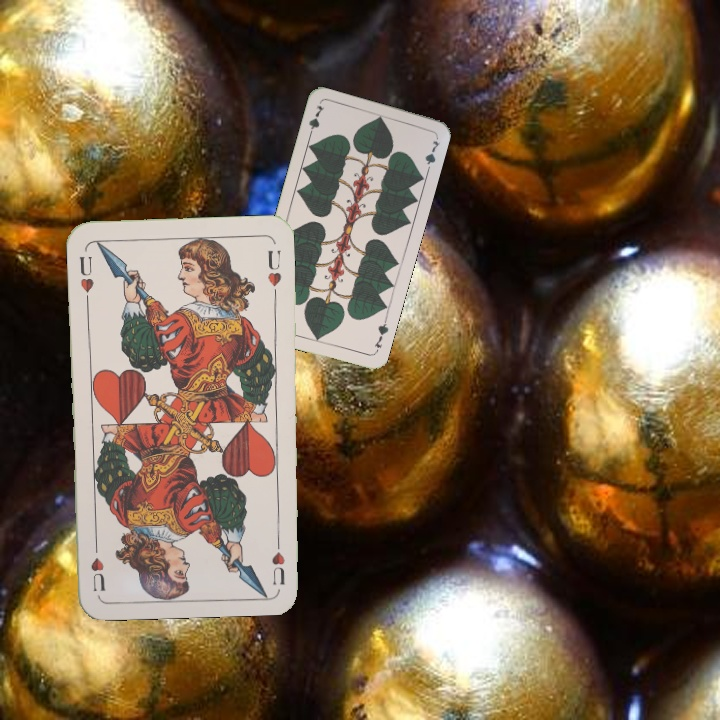G7: (305, 101, 327, 141), (370, 315, 391, 355)
HU: (75, 251, 96, 305), (269, 530, 288, 588)
